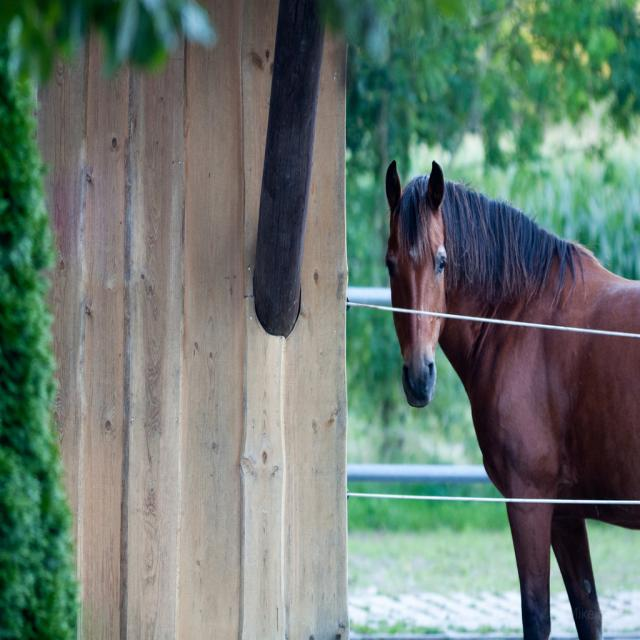Horse: (383, 159, 638, 640)
